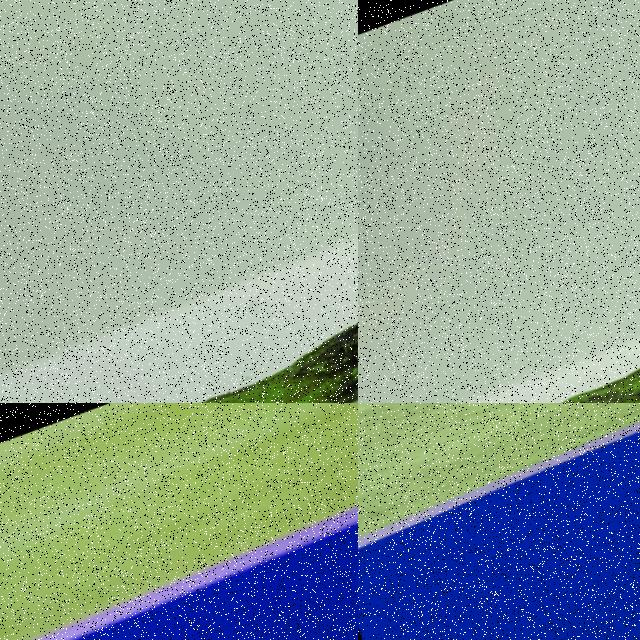Agglomerated_cocoabeans: (62, 526, 357, 639), (549, 403, 639, 639)
Fine_cocoabeans: (417, 245, 639, 402)
Flat_cocoabeans: (0, 211, 357, 402)
